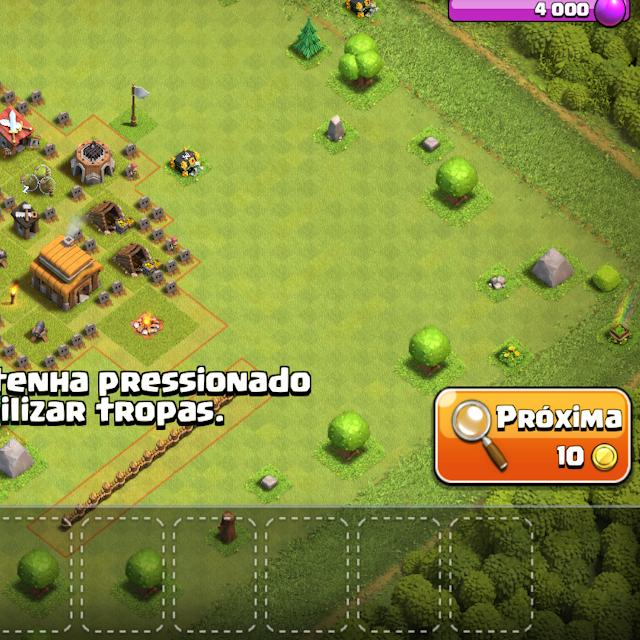Canhao: (27, 318, 52, 342)
Next: (434, 382, 636, 494)
